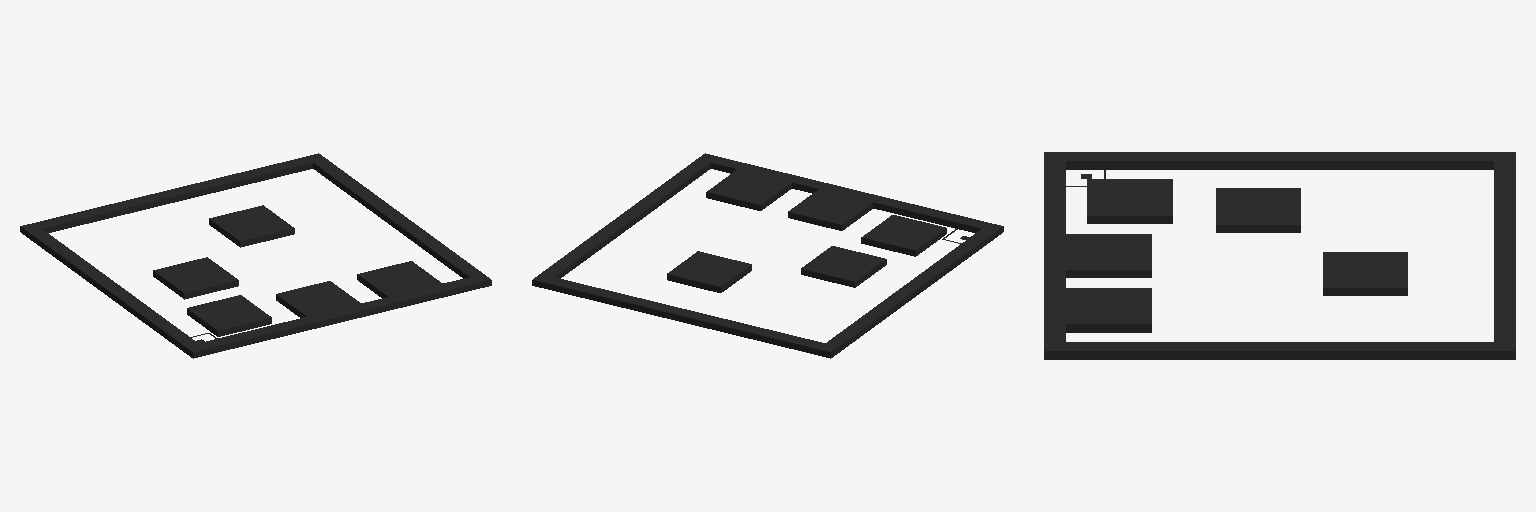
The robot description file, URDF, robot "Room21":
<robot name="Room21">
    <link name="_name">
        <visual> 
            <origin rpy="0.0 0.0 0.0" xyz="-0.4877585226863717 -0.4109791991471119 -0.010000000000000002" />
                <geometry>
                    <mesh filename="Room21/Room21.obj" scale="1 1 0.1" />
                </geometry>

            <material name="black">
                <color rgba="0.2 0.2 0.2 0.95" />
            </material>
        </visual>

       <collision concave="yes" name="collision_0">
            <origin rpy="0.0 0.0 0.0" xyz="-0.4877585226863717 -0.4109791991471119 -0.010000000000000002" />
            <geometry>
                <mesh filename="Room21/Room21_vhacd.obj" scale="1 1 0.1" />
            </geometry>
        </collision>

        <inertial> 
            <mass value="0" />
            <inertia ixx="0" ixy="0" ixz="0" iyy="0" iyz="0" izz="0" />
        </inertial> 
    </link>
</robot>

--- Facts derived from the render (not from the file) ---
Views: 3 orthographic renders of the robot side by side, from view 1: azimuth 30°, elevation 25°; view 2: azimuth 150°, elevation 25°; view 3: azimuth 270°, elevation 25°.
Robot: Room21 — 1 links, 0 joints (none); root link _name; default pose: every joint at zero.
Visible links, largest first — view 1: _name; view 2: _name; view 3: _name.
Boxes of the visible links, <box> form: _name: <box>20,153,491,358</box>; _name: <box>532,153,1003,358</box>; _name: <box>1044,152,1515,359</box>.
Bounding box of the posed robot: 1 × 1 × 0.02 m (x, y, z).
Meshes: 1 distinct files referenced, 1 mesh visuals loaded (1 OBJ).